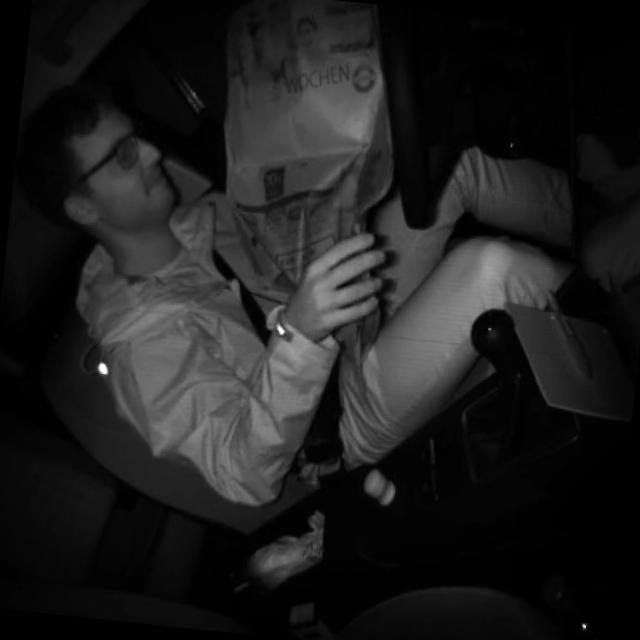pen: (536, 286, 604, 384)
